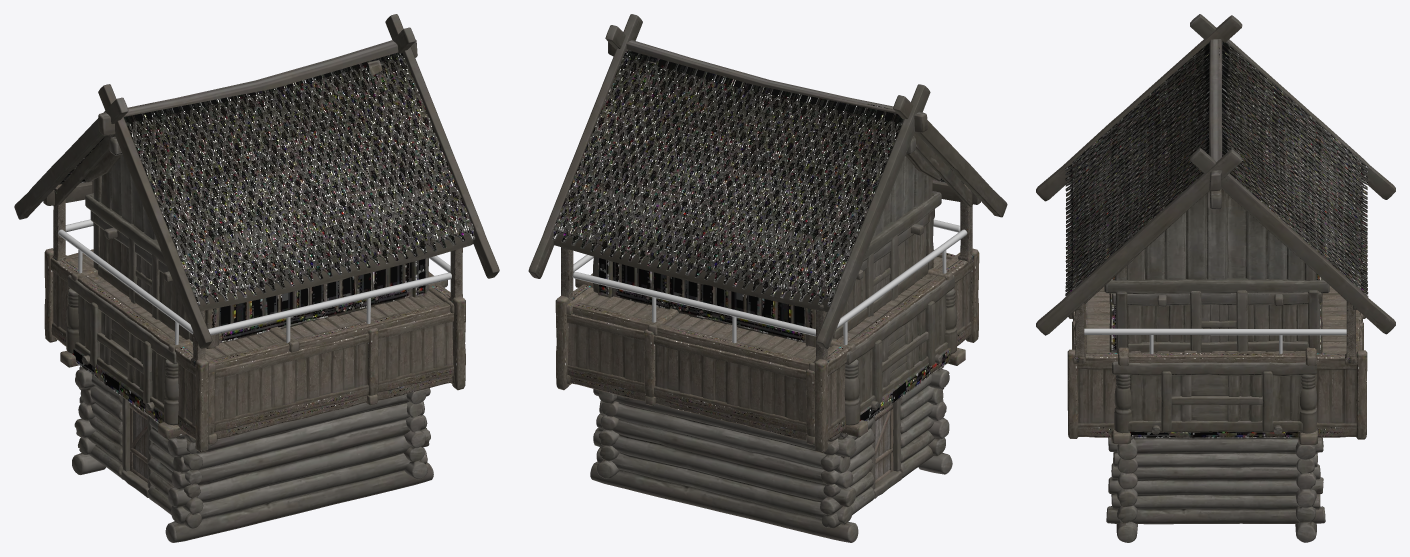
Rendered from build_bighouse_01_low.glb.
3 views of the same model, side by side, from view 1: azimuth 30°, elevation 25°; view 2: azimuth 150°, elevation 25°; view 3: azimuth 270°, elevation 25° (orthographic). The views are drawn at different scales.
Parts seen in each view (by area): view 1: build_bighouse_01; view 2: build_bighouse_01; view 3: build_bighouse_01.
Part boxes in pixels (box(x1,y1,x2,y2)): build_bighouse_01: box(14, 14, 499, 542); build_bighouse_01: box(528, 14, 1007, 542); build_bighouse_01: box(1036, 14, 1395, 542).
Bounding box in the file's own units: 10.52 × 13.43 × 10.88.
3 materials, 2 textured.
